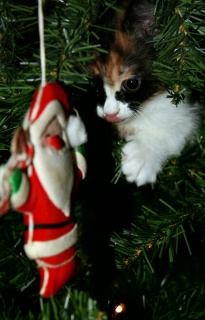Cat: (85, 0, 195, 188)
